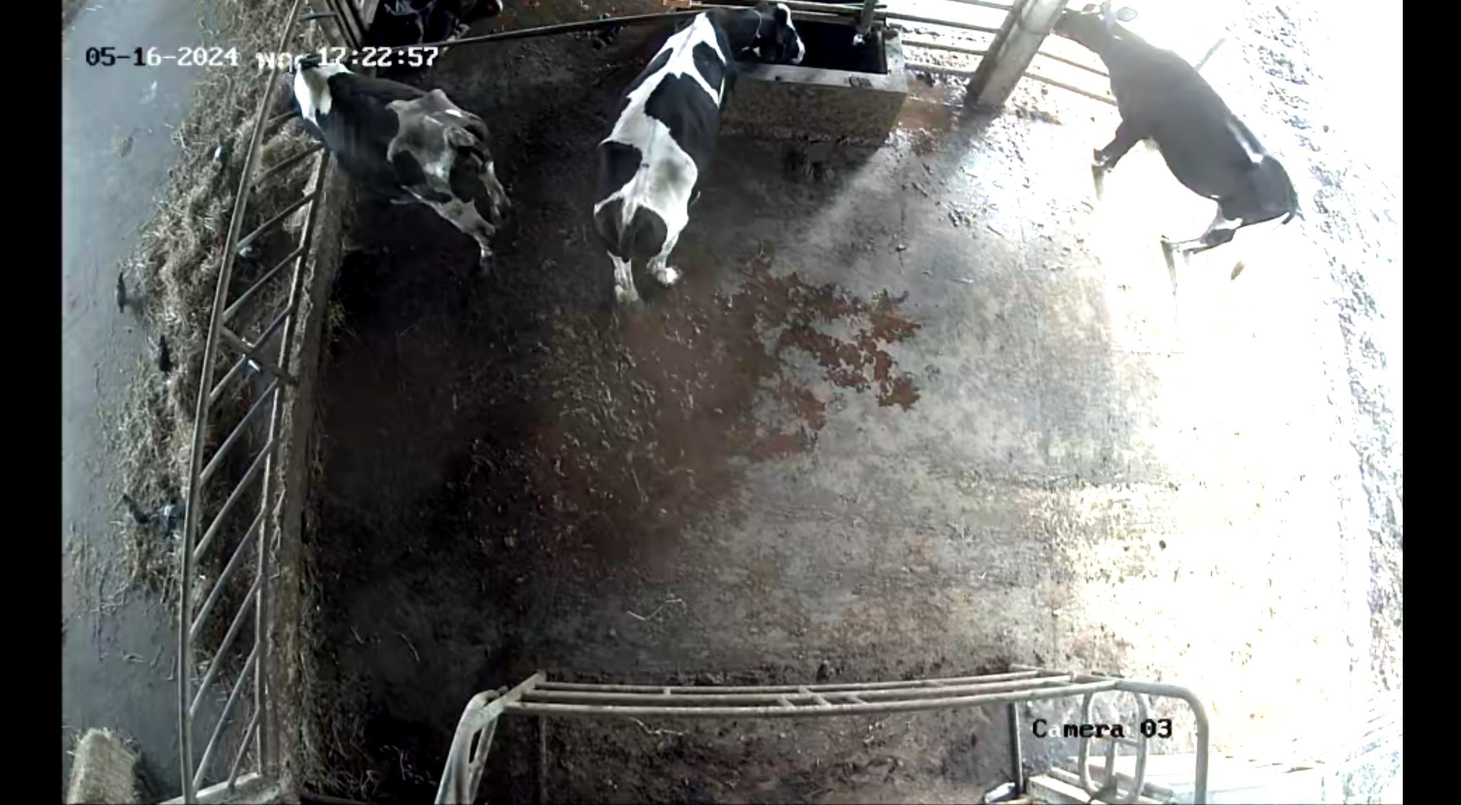drink: (684, 1, 816, 122)
eat: (232, 34, 370, 131)
stand: (1045, 7, 1323, 286)
